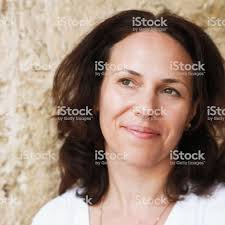white_female: (86, 54, 188, 167)
